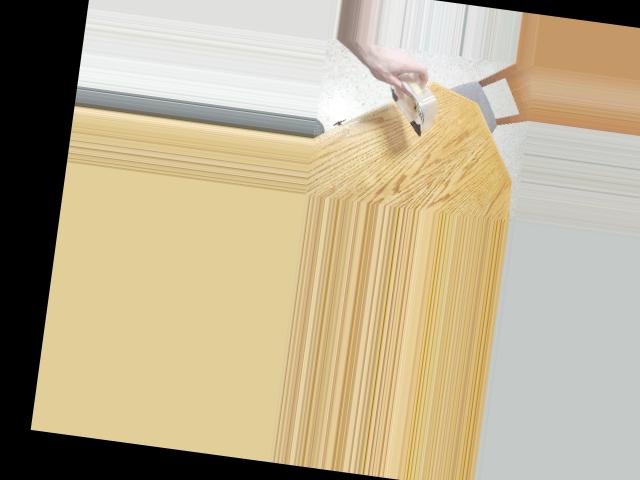cheese: (377, 66, 455, 132)
